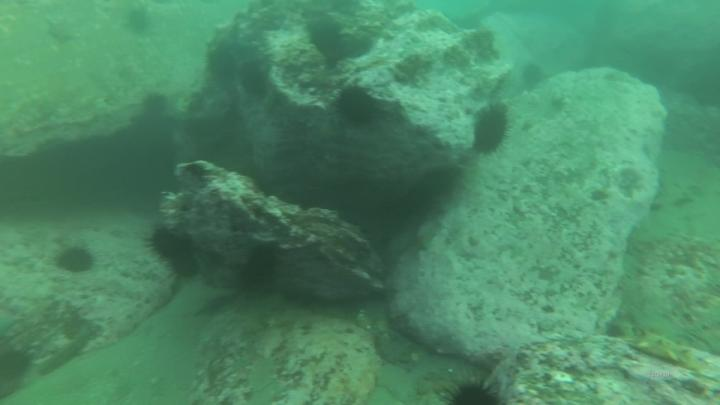echinus: (141, 224, 197, 269), (477, 103, 515, 159), (336, 85, 380, 132), (204, 42, 242, 90), (310, 21, 348, 67), (244, 242, 278, 286), (241, 60, 274, 103), (56, 245, 95, 275), (521, 62, 545, 91)
holothurian: (626, 329, 706, 375)
